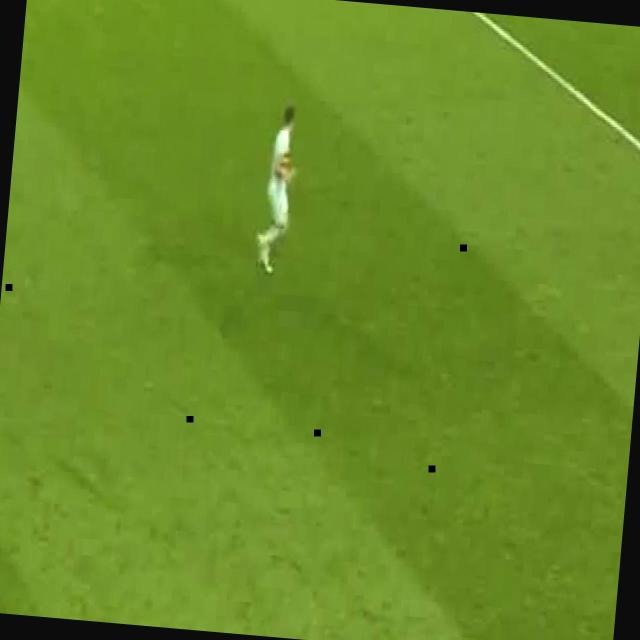player-white: (255, 100, 305, 278)
